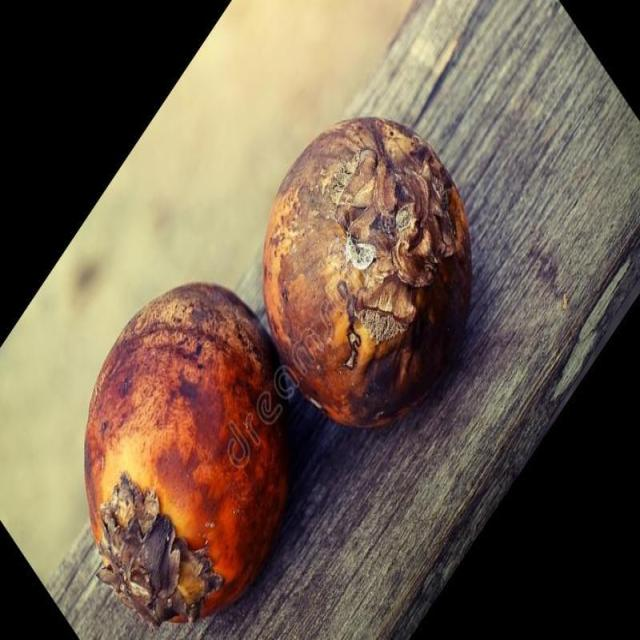damaged: (85, 283, 286, 624), (263, 118, 472, 426)
